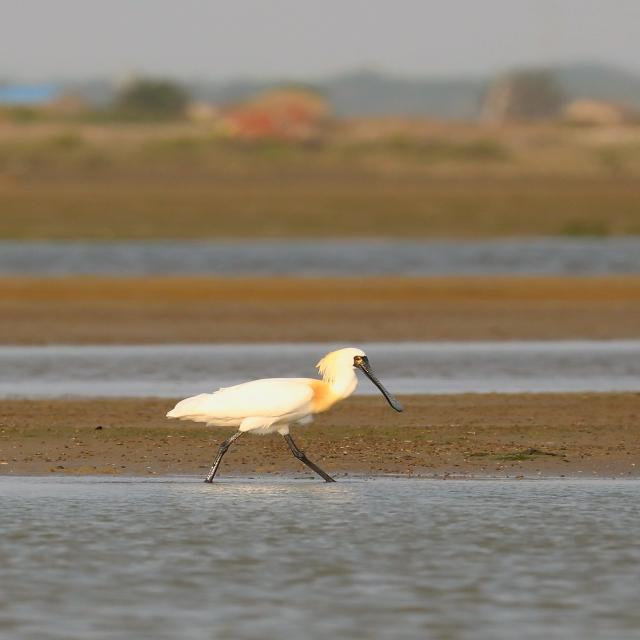Black-faced spoonbill: (167, 348, 403, 482)
